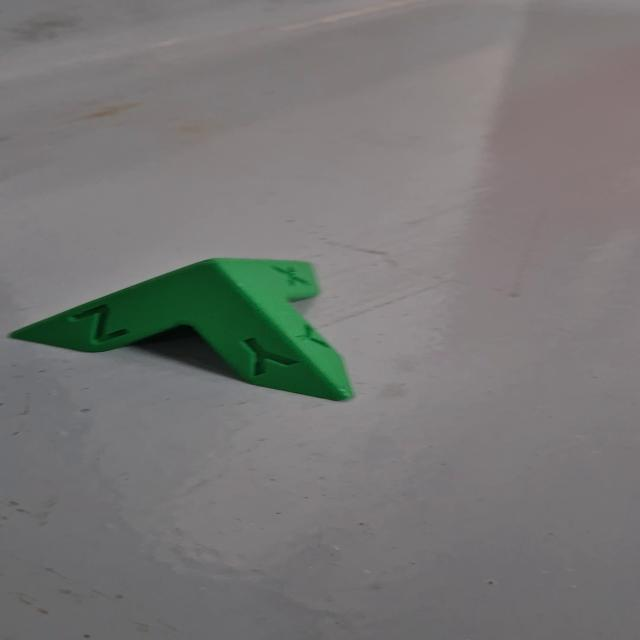objects: (3, 253, 363, 408)
